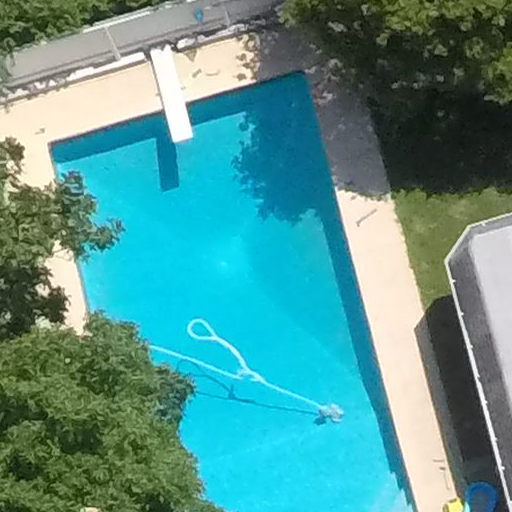container: (444, 494, 464, 512)
pool: (1, 50, 441, 512)
